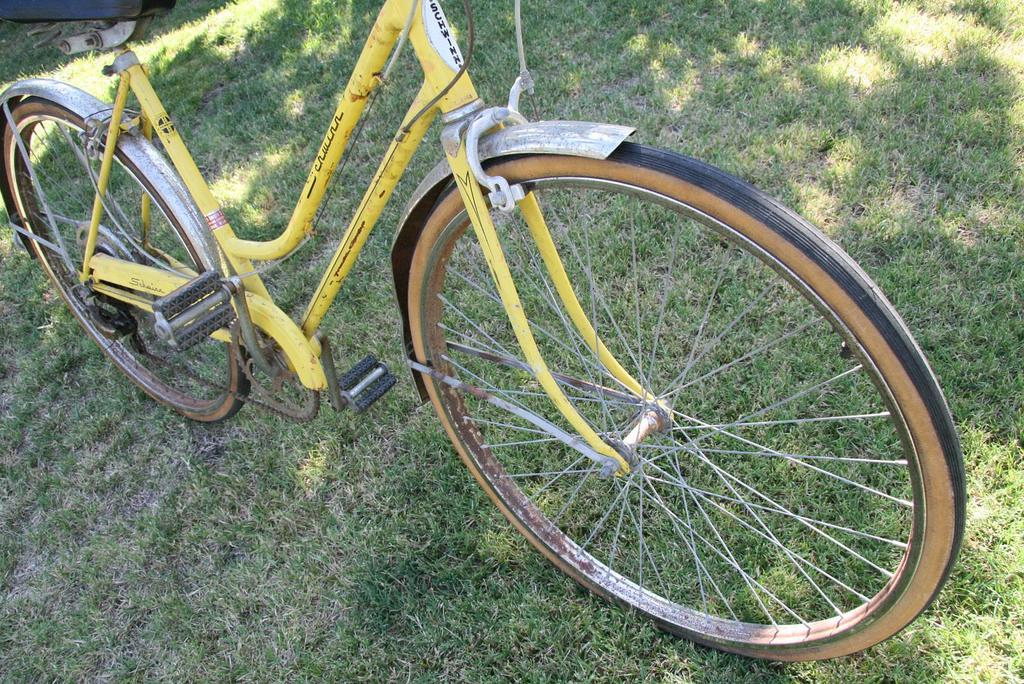Bike: (18, 25, 1002, 663)
